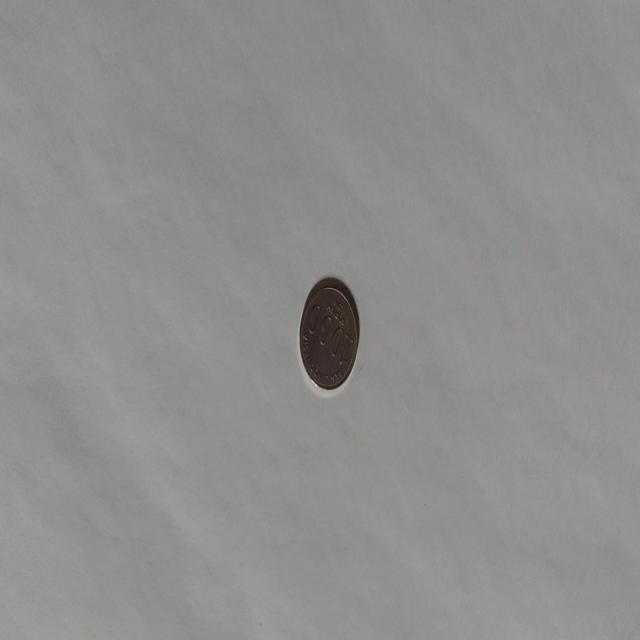seribu rupiah koin: (298, 276, 359, 392)
